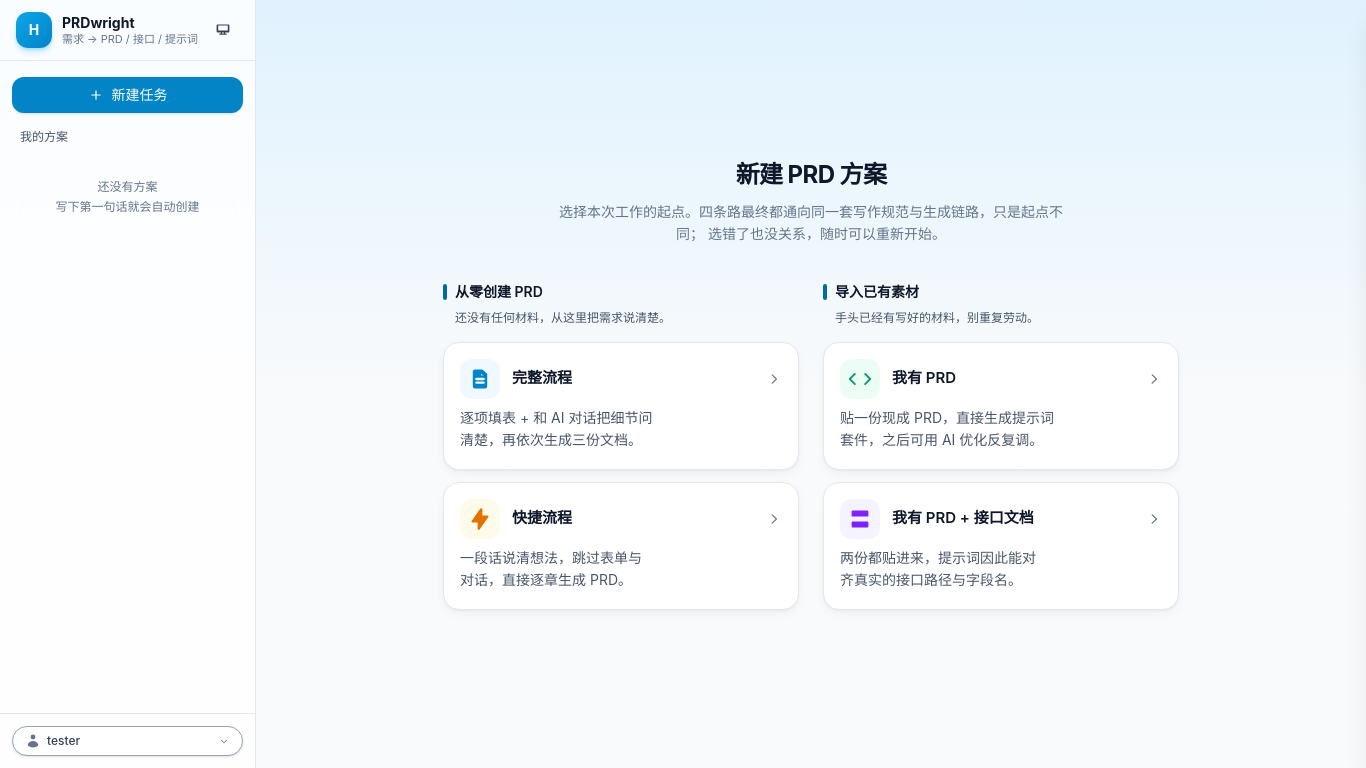
Test: AppV2 完整流程编排 › 选择「完整流程」后显示进度条与结构化表单，不显示对话区
Click the button "完整流程 逐项填表 + 和 AI 对话把细节问清楚，再依次生成三份文档。".
click(621, 406)  # box [443, 342, 799, 470]
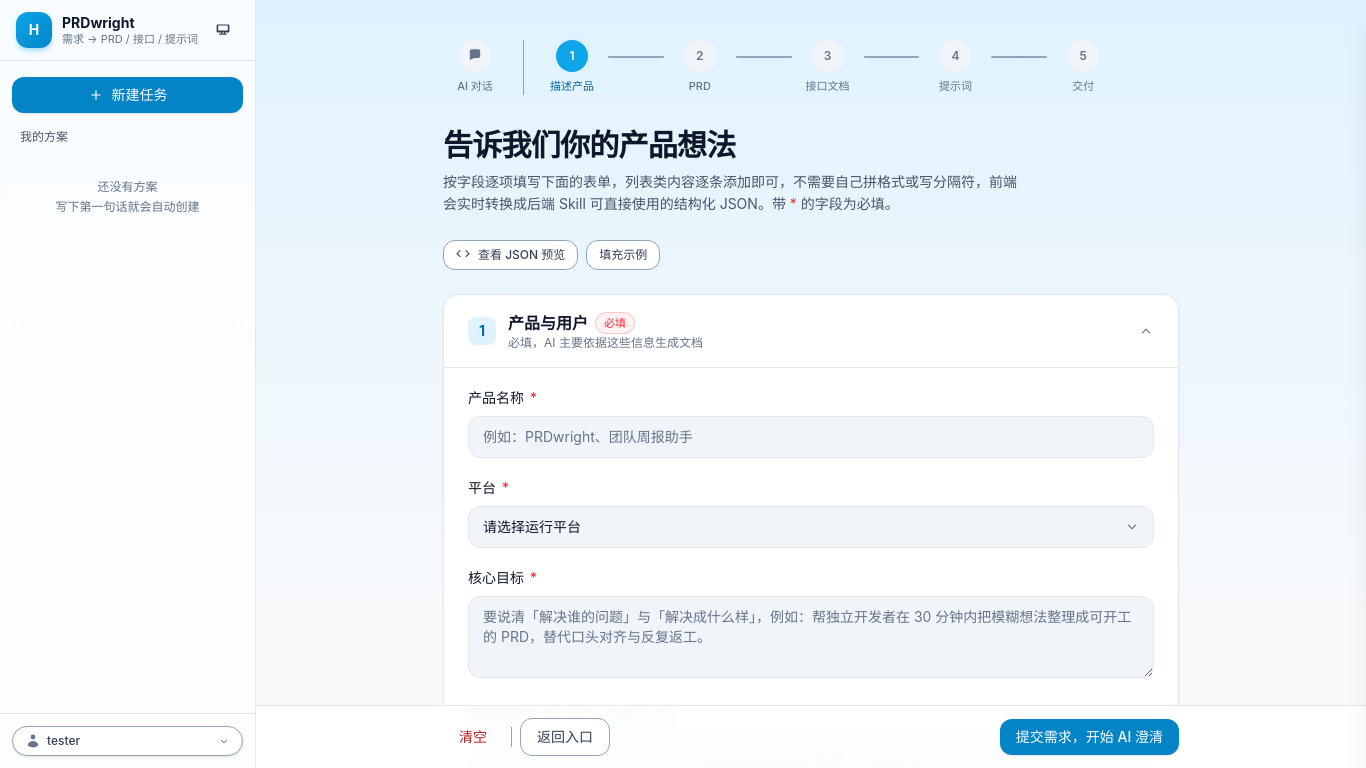
Check: the text "AI 对话" is shown, box [457, 78, 493, 94]
Check: the text "描述产品" is shown, box [550, 78, 594, 94]
Check: the text "告诉我们你的产品想法" is shown, box [443, 126, 736, 162]
